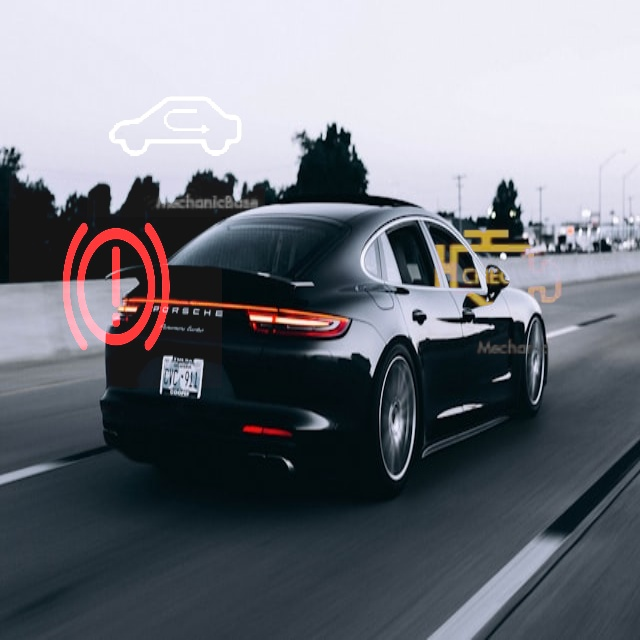symbol: (9, 175, 222, 388), (405, 178, 590, 363), (87, 39, 265, 217)
